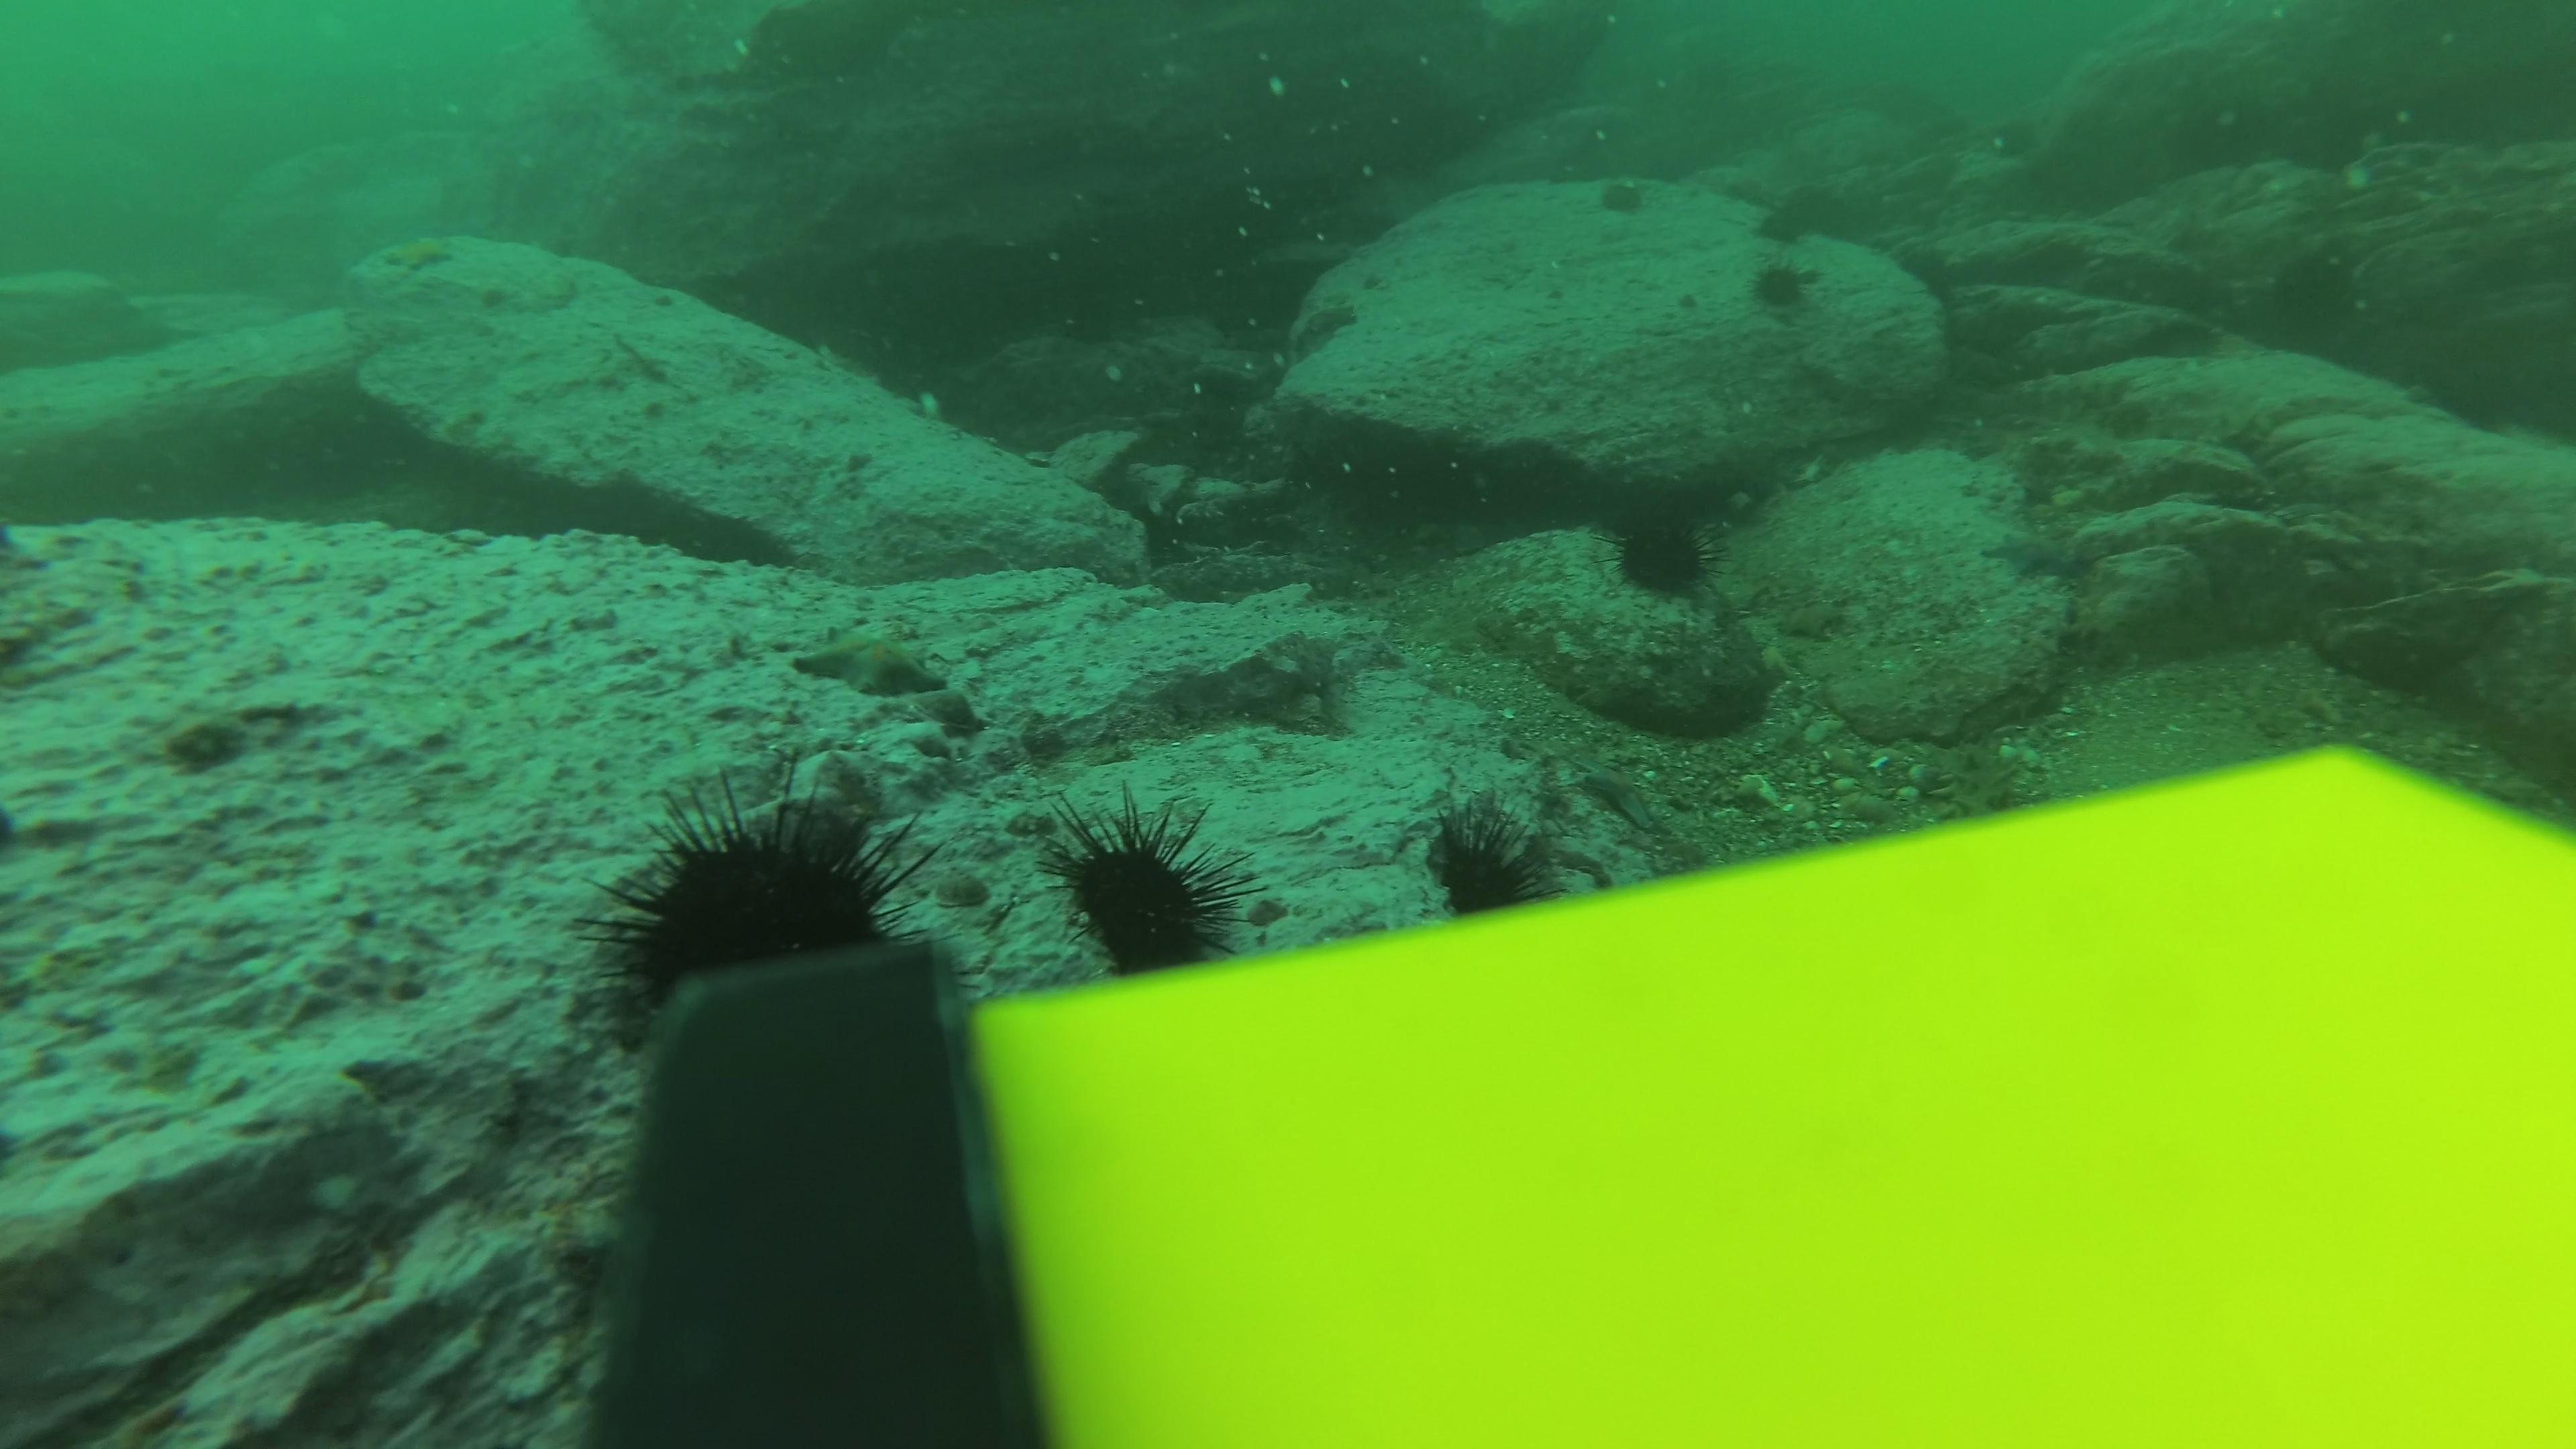urchin: (609, 787, 893, 996), (1063, 801, 1292, 978), (1419, 777, 1589, 924), (1610, 487, 1739, 614), (1744, 248, 1828, 329)
